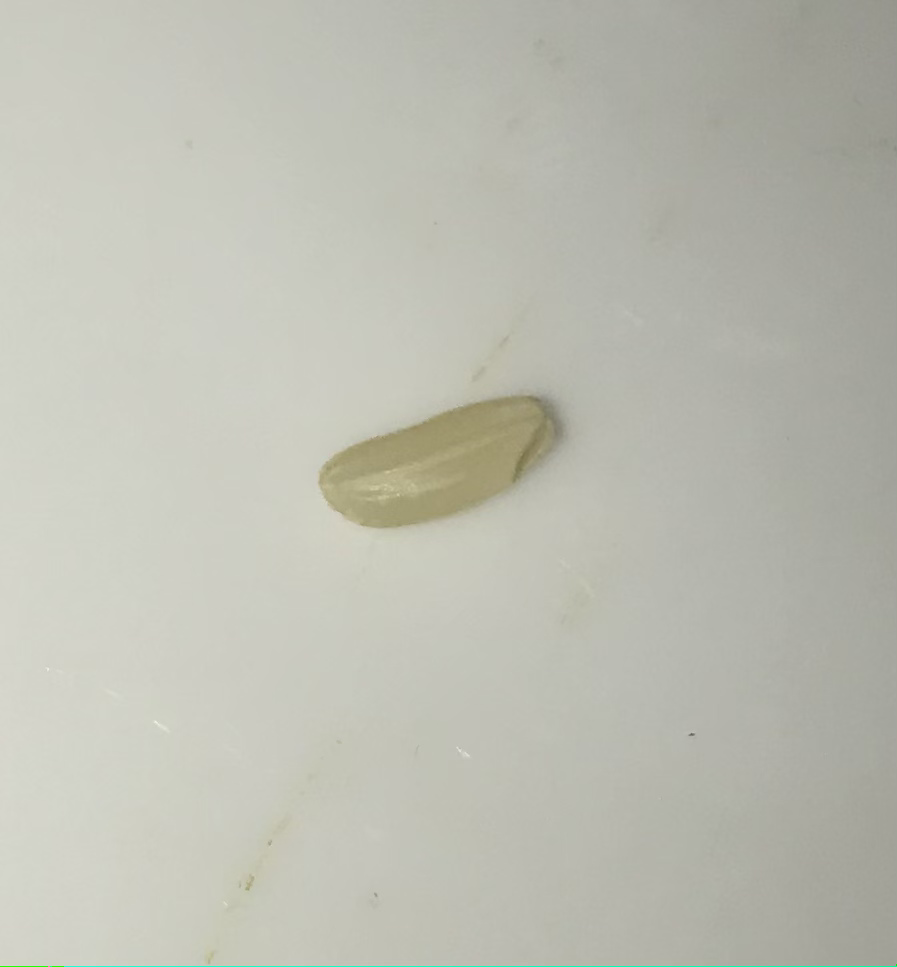Gao Lut Trang: (297, 377, 573, 537)
